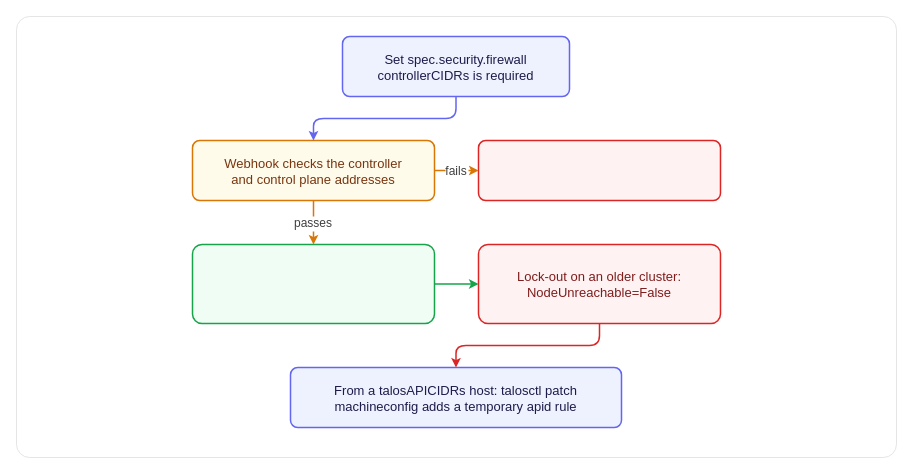
This 913x474 diagram has some shape labels left out. Here are the shapes that lost their labels. From the top down, the centre of each, then its label:
[599,170]: Refused when an address is outside the CIDRs
[313,283]: Talos blocks all but the ichor-fw-* rules and your allow entries; no reboot
